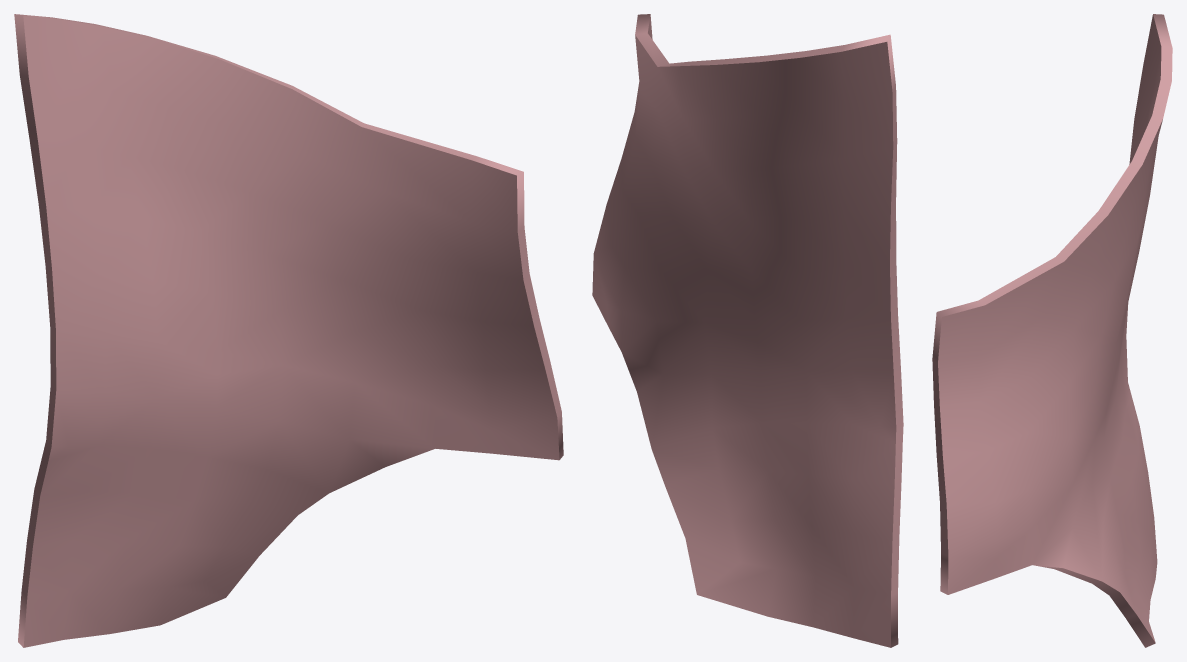
The picture shows the model from 3 angles, left to right: view 1: azimuth 30°, elevation 25°; view 2: azimuth 150°, elevation 25°; view 3: azimuth 270°, elevation 25°; orthographic projection. The views are drawn at different scales.
Parts seen in each view (by area): view 1: ZA_9e3b57c85621778b; view 2: ZA_9e3b57c85621778b; view 3: ZA_9e3b57c85621778b.
Boxes of the visible parts, x1,y1,x2,y2 form: ZA_9e3b57c85621778b: (14,14,563,647); ZA_9e3b57c85621778b: (592,14,903,647); ZA_9e3b57c85621778b: (932,14,1172,647).
Size of the model in its own units: 0.1128 by 0.1603 by 0.0628.
